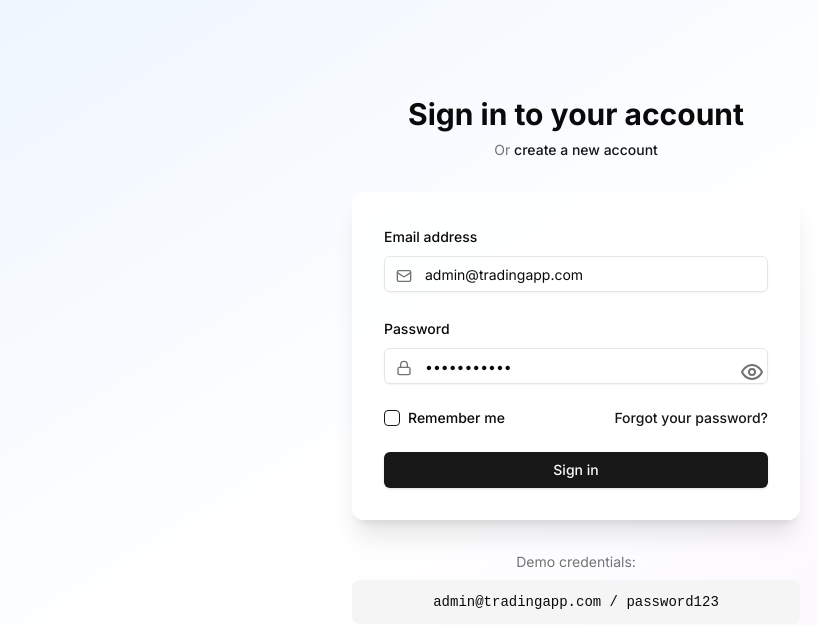
Test: LoginForm › toggles password visibility
Click the 1st button.
click(748, 368)  # box [740,360,756,376]
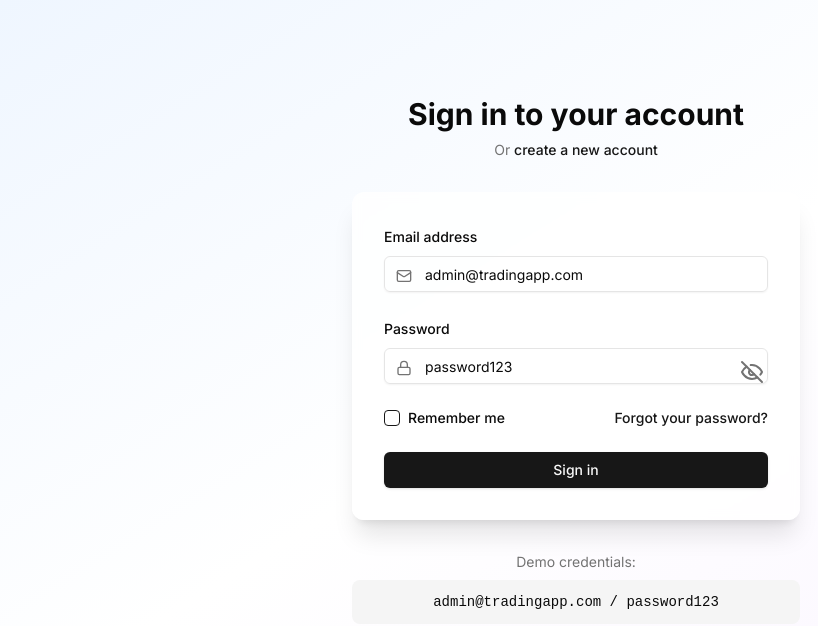
Check: the field labelled "Password" shows its text, box [384,348,768,384]
Click the 1st button.
click(748, 368)  # box [740,360,756,376]
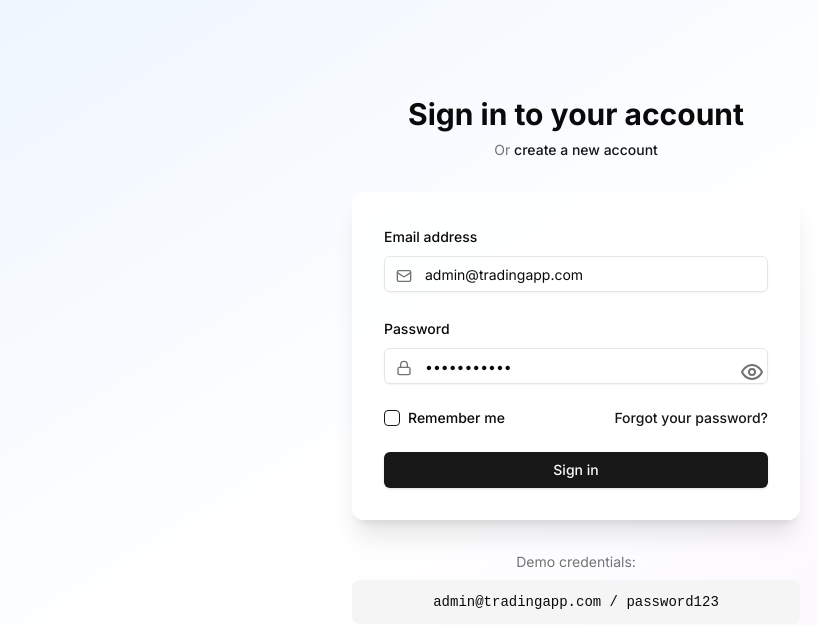
Check: the password field labelled "Password" hides its text, box [384,348,768,384]
